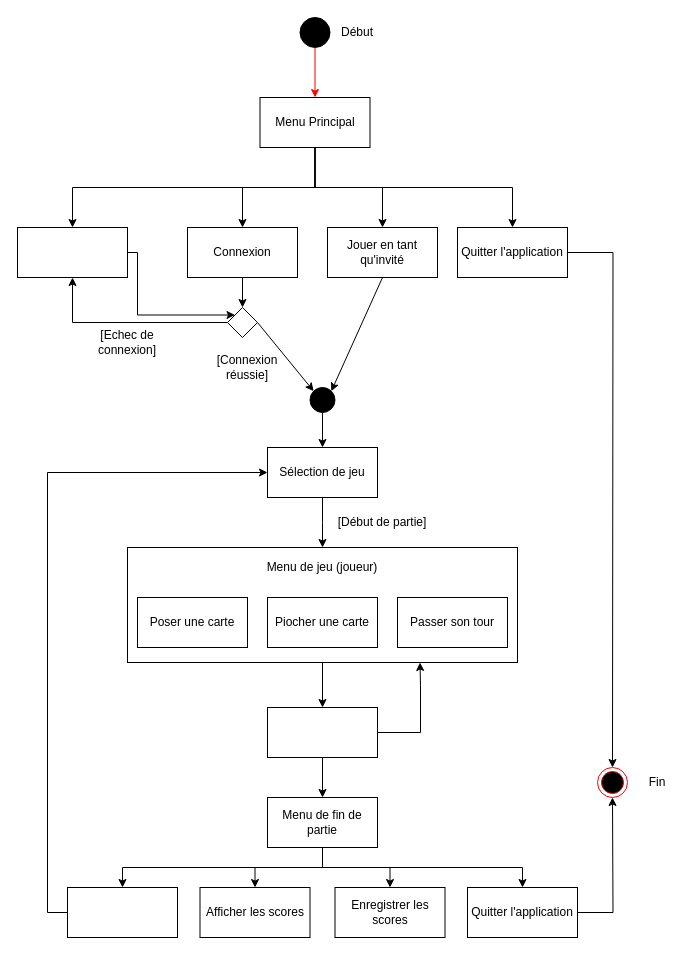
This 695x955 diagram has some shape labels left out. The shapes that lost their labels are listed below. From the top down, each one's centre as x and y in pixels, then its label:
point 72,252: Création de Compte
point 322,732: Affichage du reste du tour
point 122,912: Rejouer
